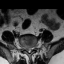CCS_normal: (27, 44, 30, 55)
LFS_normal: (33, 42, 35, 51)
LLS_normal: (30, 44, 33, 53)
RFS_normal: (23, 43, 25, 52)
RLS_normal: (25, 44, 27, 52)
